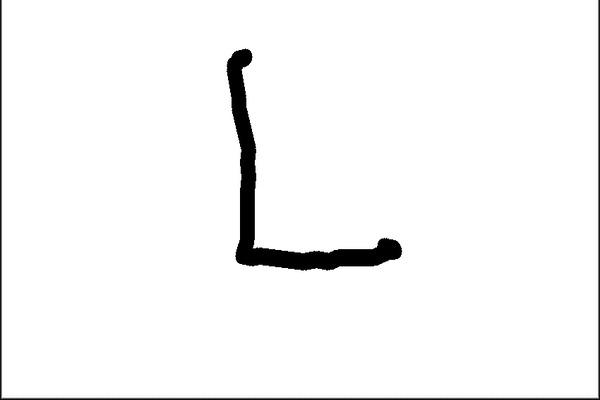L: (215, 40, 407, 275)
